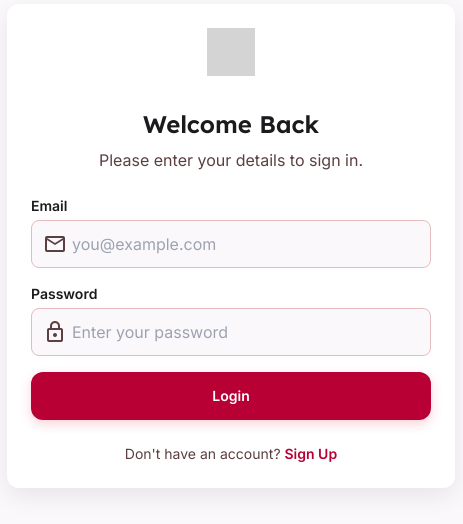
Test case: LoginScreen › shows an inline email-format error when the email is malformed
The width and height of the screenshot is (463, 524).
Type "not-an-email" into the field with test id "login-email-input" at (231, 244), box [31,220,431,268]
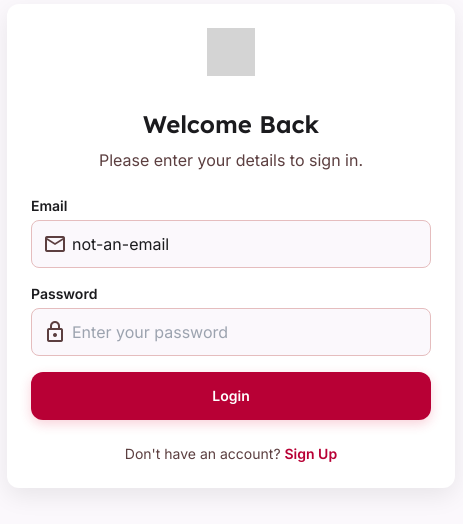
Type "password123" into the password field with test id "login-password-input" at (231, 332), box [31,308,431,356]
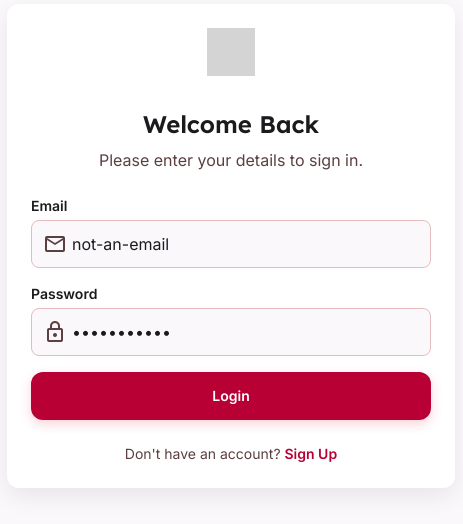
Click the button with test id "login-submit" at (231, 396), box [31,372,431,420]
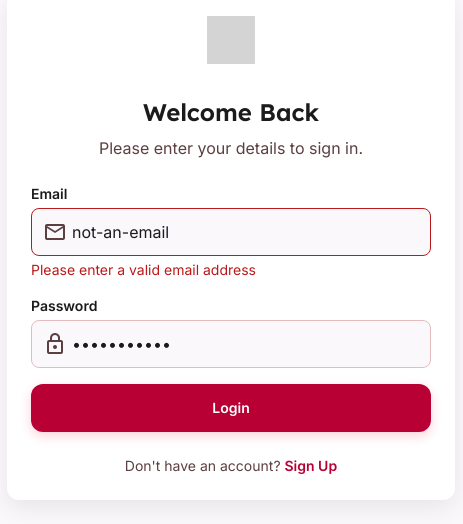
Check: the message with test id "login-email-error" shows "valid email", box [31,261,256,278]
